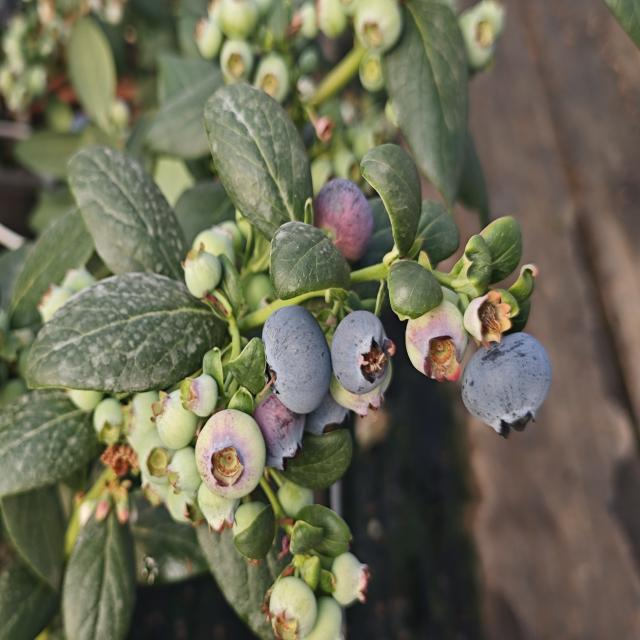ripe: (454, 328, 570, 432), (263, 297, 334, 421), (332, 297, 392, 404), (311, 169, 379, 253)
